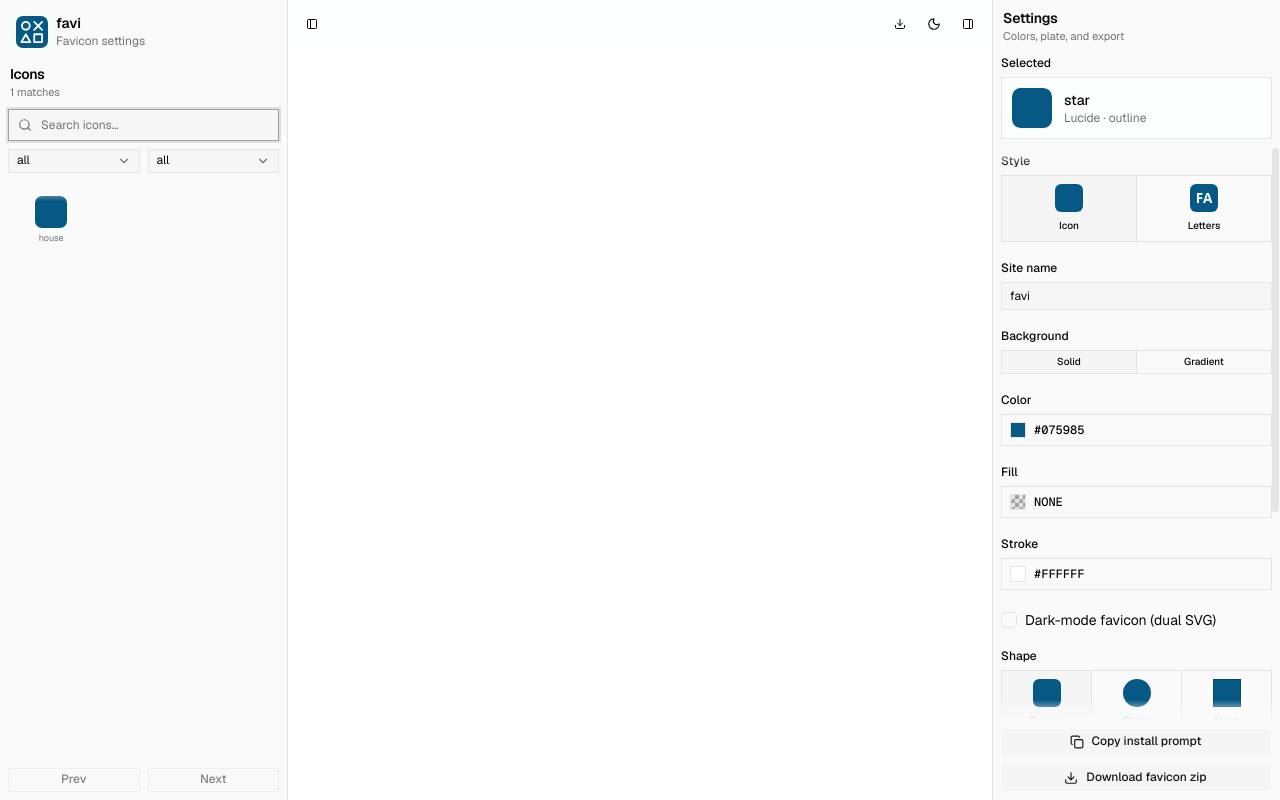
favicon editor flows › surfaces a failed export
The width and height of the screenshot is (1280, 800).
Click the button named "download favicon zip" at [900, 24], box [888,12,912,36]
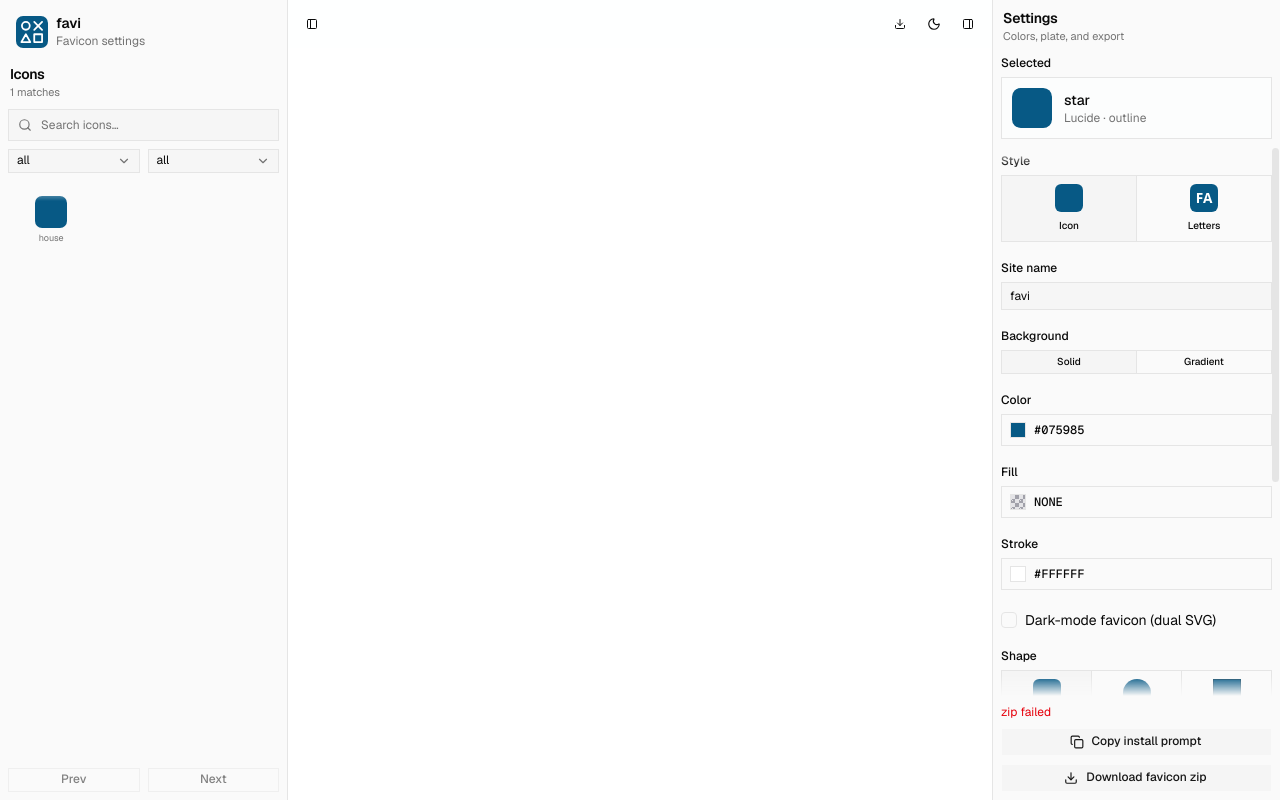
Check: the text "zip failed" is shown, box [1001,704,1051,720]
